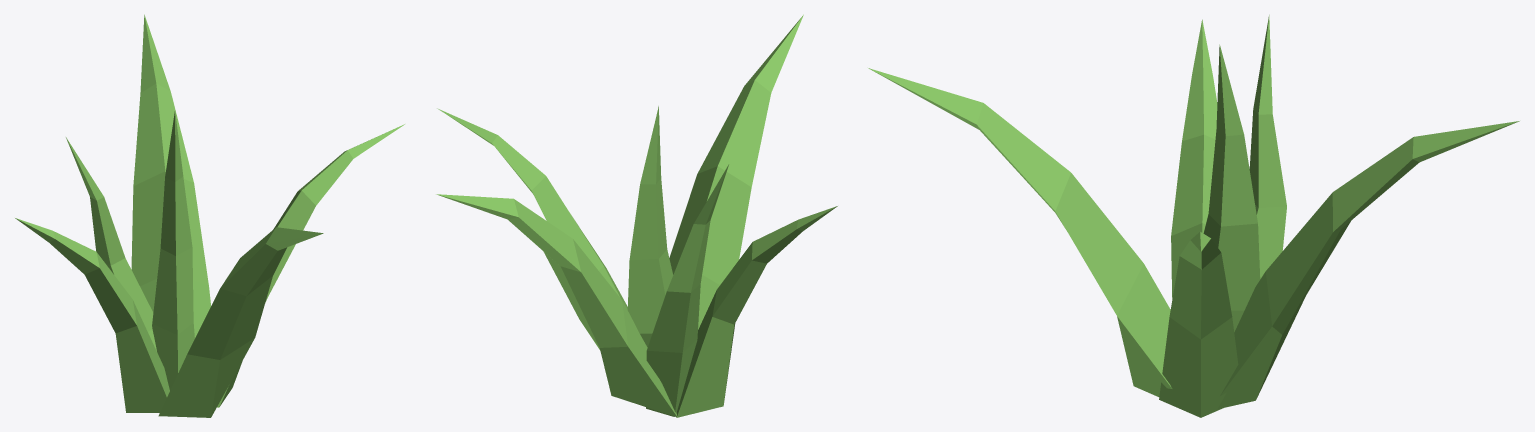
The model's file is Grass Tuft.fbx.
The picture shows the model from 3 angles, left to right: view 1: azimuth 30°, elevation 25°; view 2: azimuth 150°, elevation 25°; view 3: azimuth 270°, elevation 25°; orthographic projection. The views are drawn at different scales.
Visible parts, largest first — view 1: Grass; view 2: Grass; view 3: Grass.
Boxes of the visible parts, x1,y1,x2,y2 form: Grass: [15, 14, 404, 417]; Grass: [436, 14, 837, 417]; Grass: [868, 15, 1519, 417].
Bounding box in the file's own units: 4.24 × 2.94 × 5.04.
